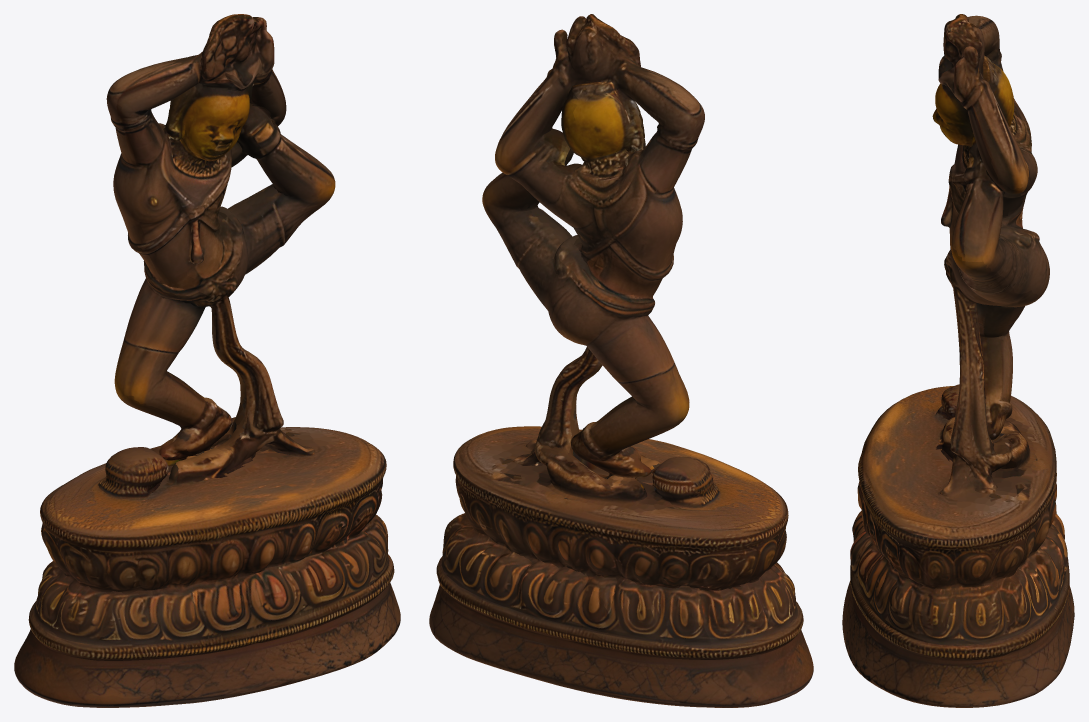
3 renders of one model, left to right at view 1: azimuth 30°, elevation 25°; view 2: azimuth 150°, elevation 25°; view 3: azimuth 270°, elevation 25°, orthographic.
Visible parts, largest first — view 1: textured_mesh; view 2: textured_mesh; view 3: textured_mesh.
Part boxes in pixels (left/top/right/bottom): textured_mesh: left=14, top=14, right=400, bottom=707; textured_mesh: left=429, top=14, right=813, bottom=707; textured_mesh: left=842, top=14, right=1074, bottom=707.
Size of the model in its own units: 1.2 by 1.99 by 0.6766.
1 material, 1 textured.
